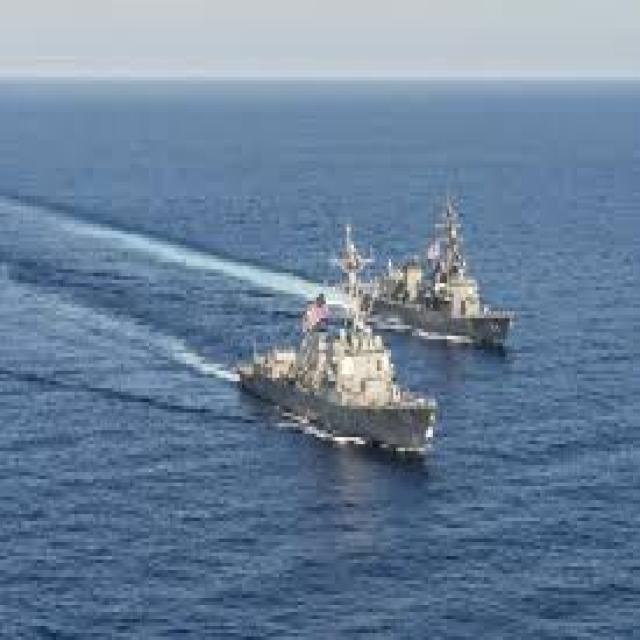navalvessels: (308, 185, 514, 355), (259, 282, 438, 469)
